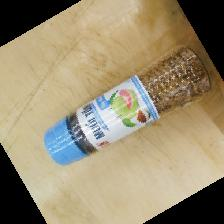TayNinh_blue: (42, 44, 212, 168)
